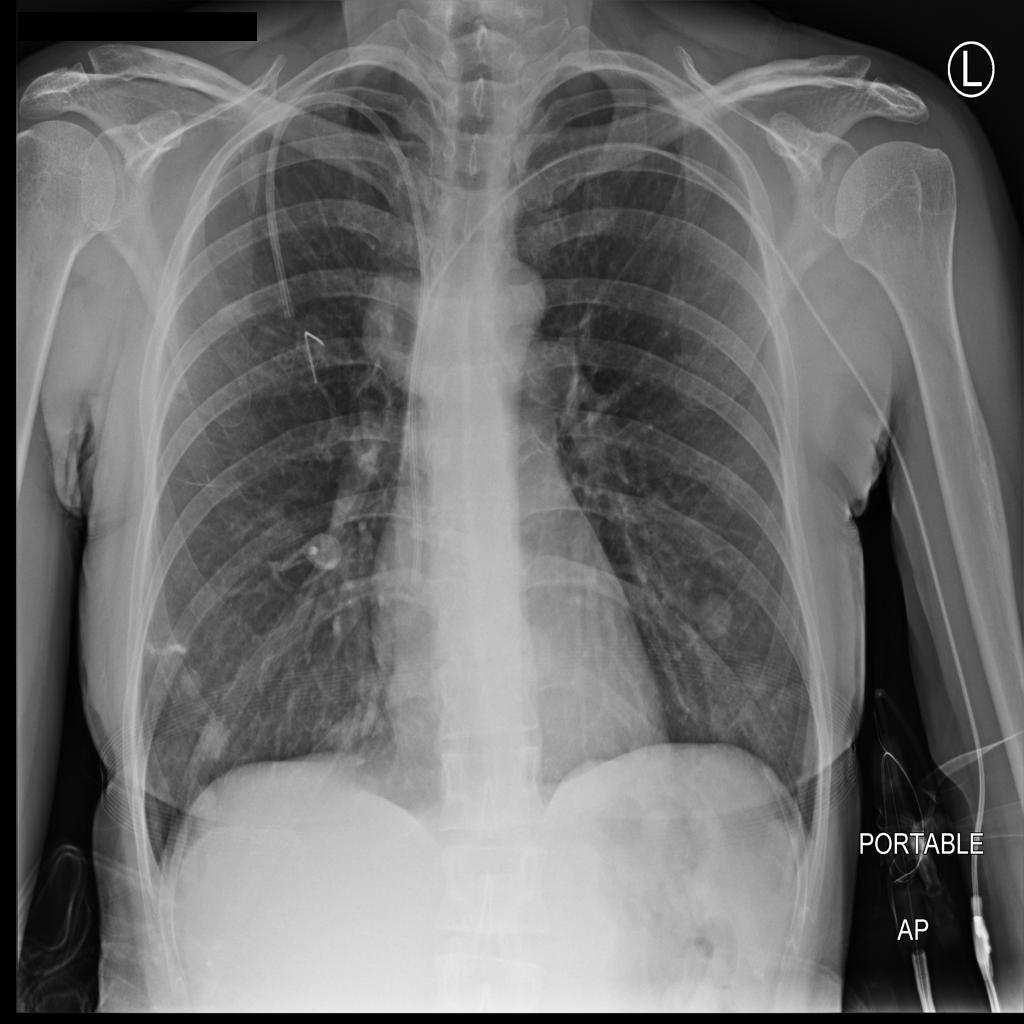nodule: (686, 578, 747, 655), (699, 692, 747, 747), (169, 650, 212, 707), (730, 658, 777, 709)
